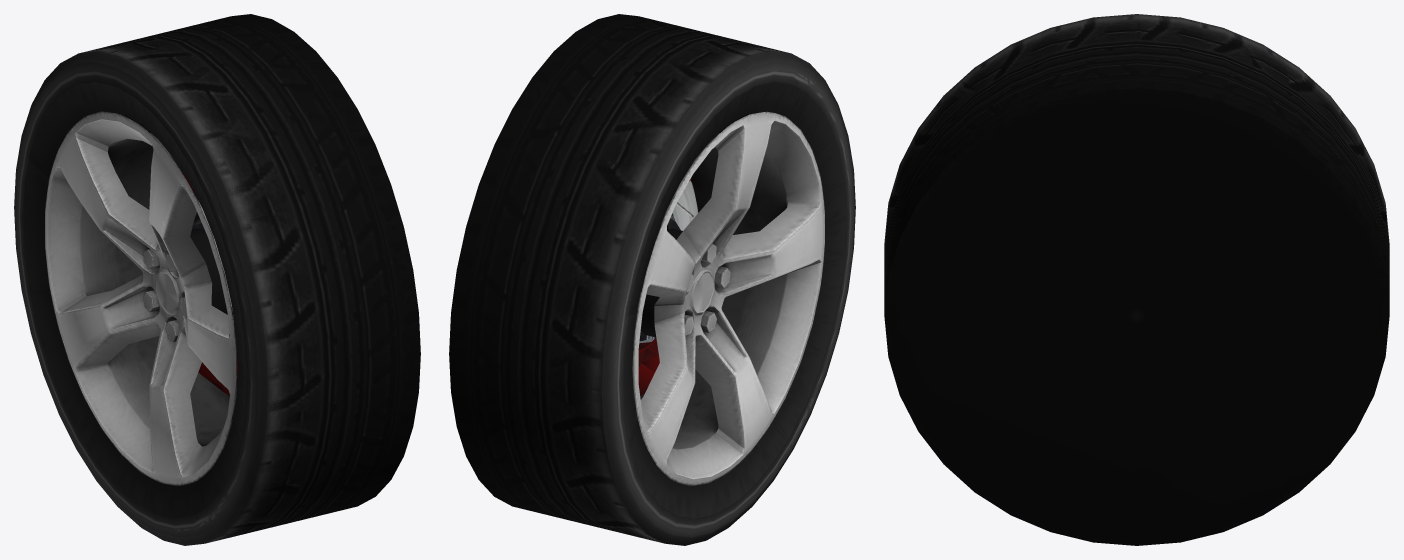
Rendered from camaro.fbx.
3 renders of one model, left to right at view 1: azimuth 30°, elevation 25°; view 2: azimuth 150°, elevation 25°; view 3: azimuth 270°, elevation 25°, orthographic.
Parts seen in each view (by area): view 1: Tirerl_garage, Tirerr_garage, Rimrl_garage_vcolor, Rimrr_garage_vcolor; view 2: Tirerr_garage, Tirerl_garage, Rimrl_garage_vcolor, brake_disk_rl_garage, support_rl_vcolor, Rimrr_garage_vcolor; view 3: Tirerr_garage, Tirerl_garage, Tire_LP_rl_garage, Tire_LP_rr_garage.
Boxes of the visible parts, x1=… form: Tirerl_garage: x1=14, y1=18, x2=420, y2=545; Tirerr_garage: x1=14, y1=14, x2=420, y2=544; Rimrl_garage_vcolor: x1=45, y1=111, x2=236, y2=485; Rimrr_garage_vcolor: x1=190, y1=228, x2=219, y2=279; Tirerr_garage: x1=449, y1=14, x2=855, y2=545; Tirerl_garage: x1=449, y1=19, x2=855, y2=542; Rimrl_garage_vcolor: x1=632, y1=111, x2=824, y2=486; brake_disk_rl_garage: x1=639, y1=180, x2=698, y2=343; support_rl_vcolor: x1=638, y1=338, x2=659, y2=395; Rimrr_garage_vcolor: x1=641, y1=228, x2=682, y2=328; Tirerr_garage: x1=884, y1=14, x2=1389, y2=545; Tirerl_garage: x1=884, y1=14, x2=1389, y2=545; Tire_LP_rl_garage: x1=947, y1=146, x2=1326, y2=467; Tire_LP_rr_garage: x1=947, y1=146, x2=1324, y2=490.
Bounding box in the file's own units: 0.9778 × 2.64 × 2.64.
